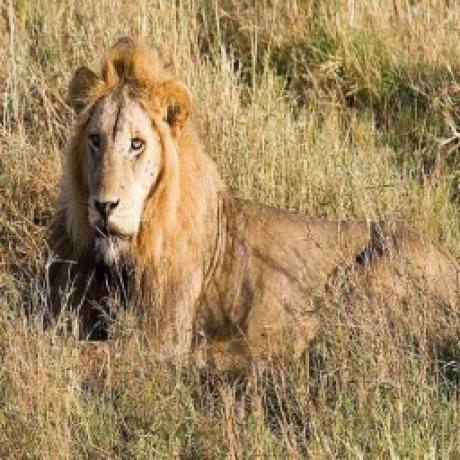Lion: (48, 28, 460, 368)
